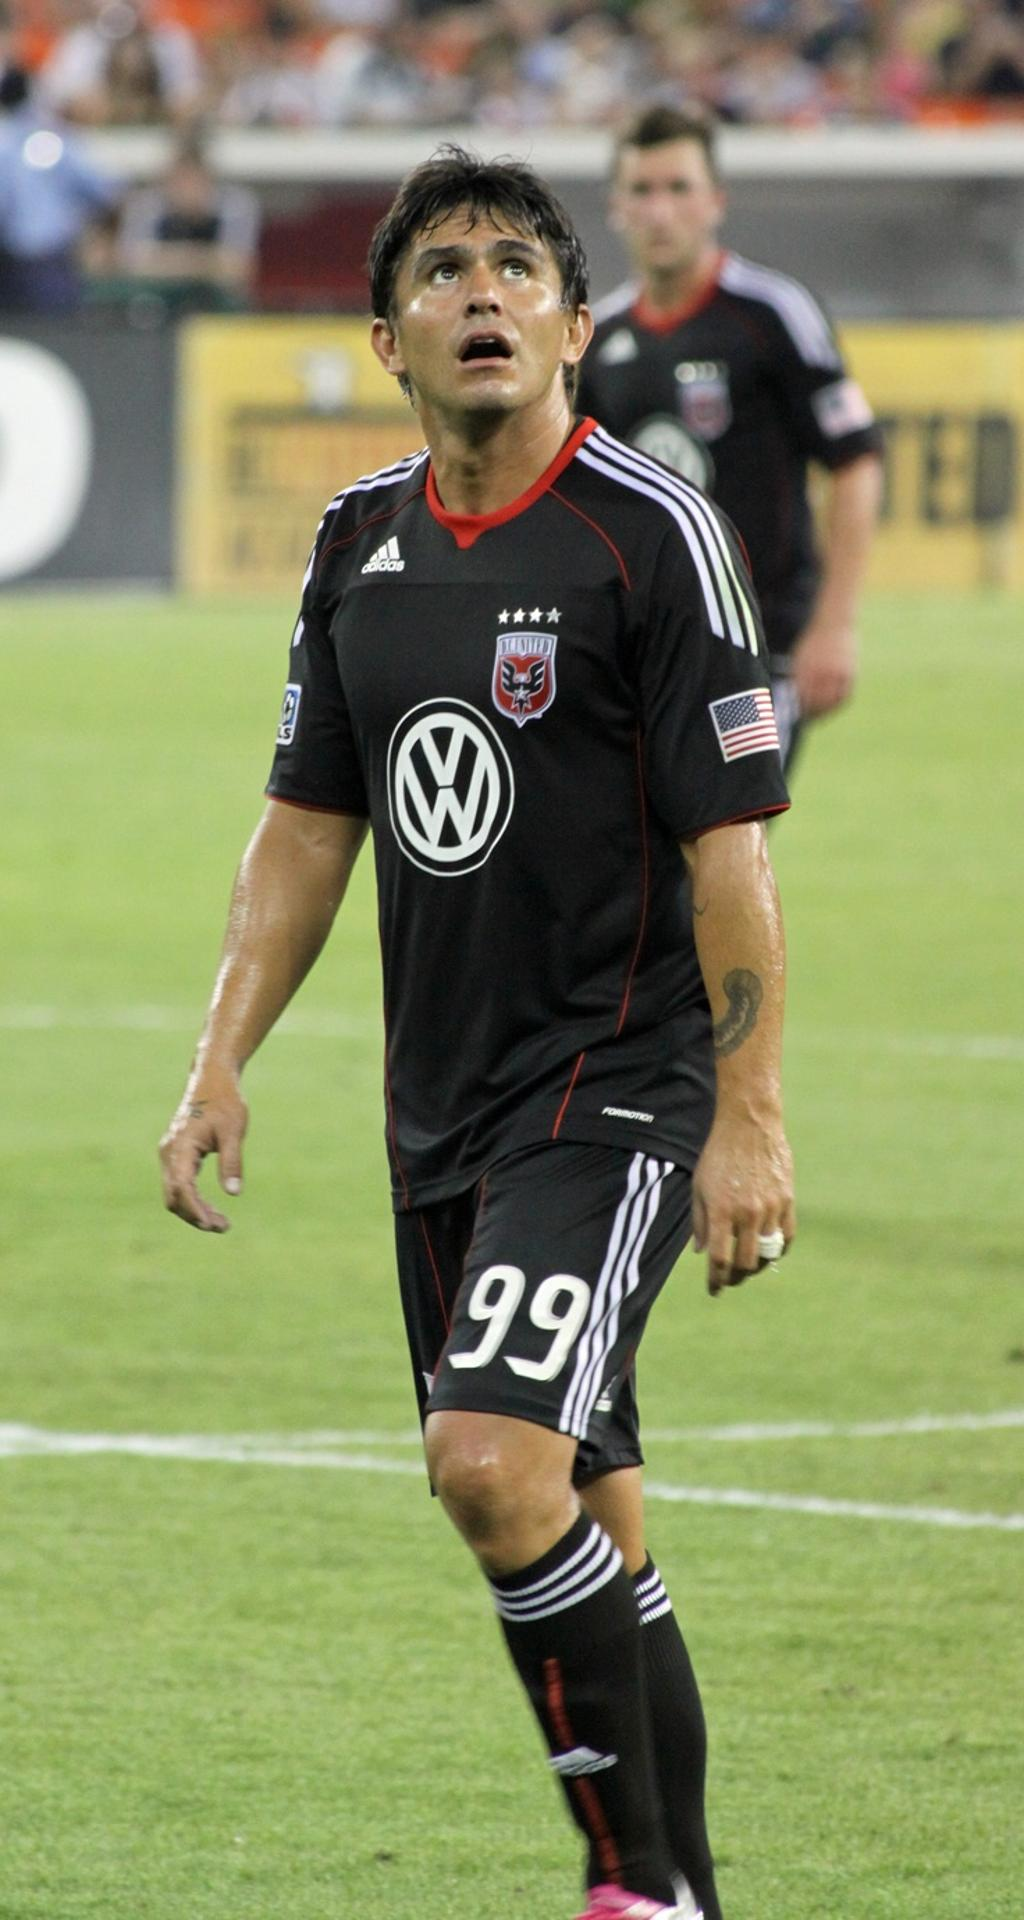face: (390, 195, 566, 405), (619, 143, 713, 267)
